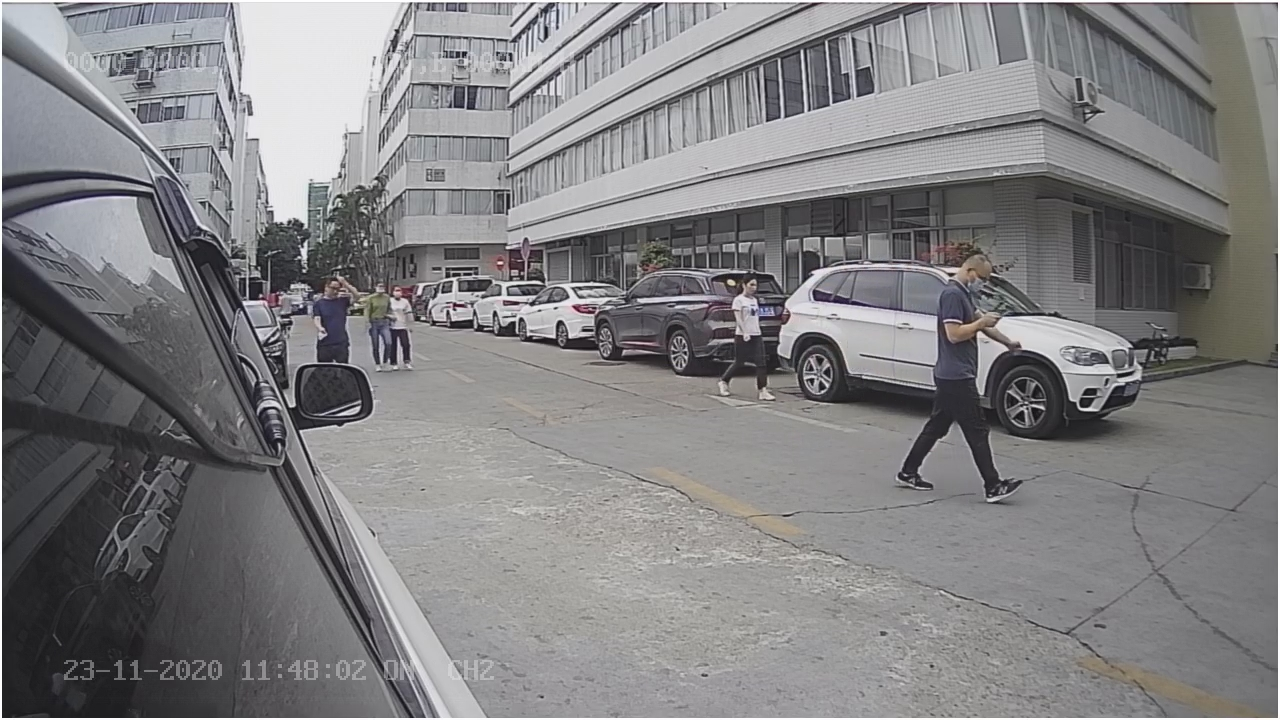person: (893, 245, 1028, 504), (715, 270, 777, 405)
